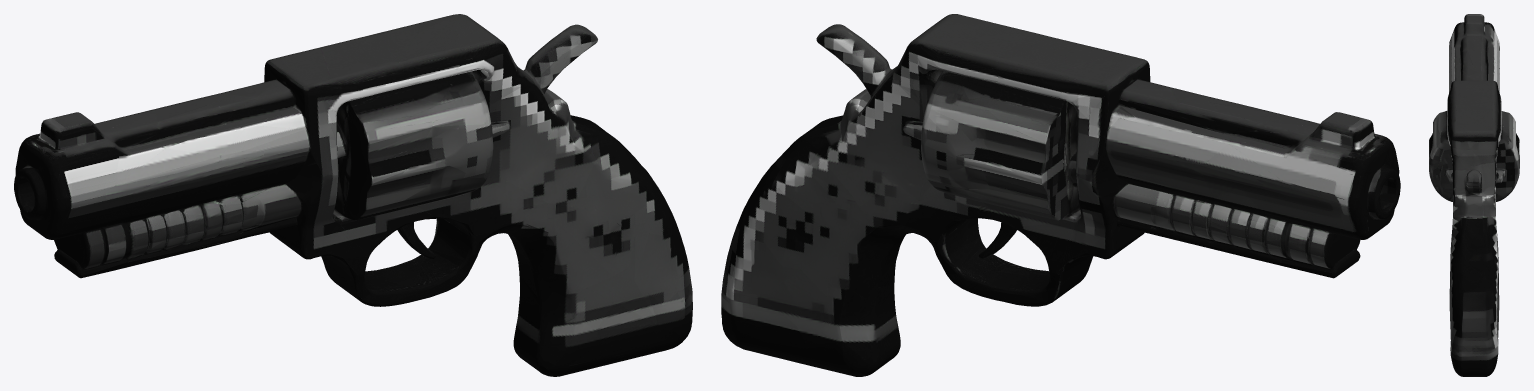
Rendered from gun.glb.
The picture shows the model from 3 angles, left to right: view 1: azimuth 30°, elevation 25°; view 2: azimuth 150°, elevation 25°; view 3: azimuth 270°, elevation 25°; orthographic projection. The views are drawn at different scales.
Bounding box in the file's own units: 1.9 × 1.01 × 0.4159.
Materials: 1 (1 with a texture image).
